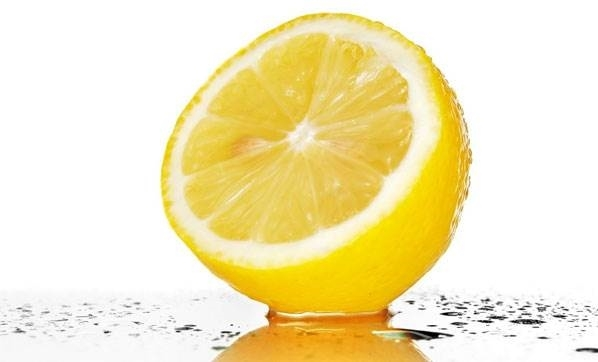Lemon: (161, 12, 472, 326)
